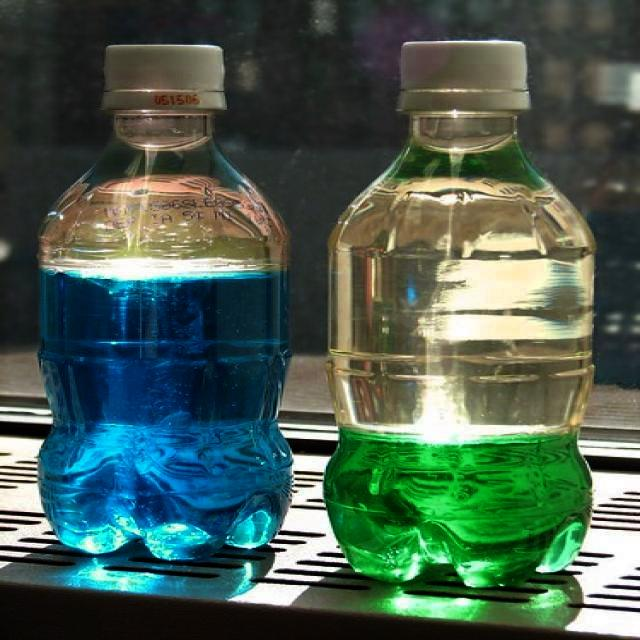bottle: (324, 40, 598, 588), (37, 45, 295, 561)
